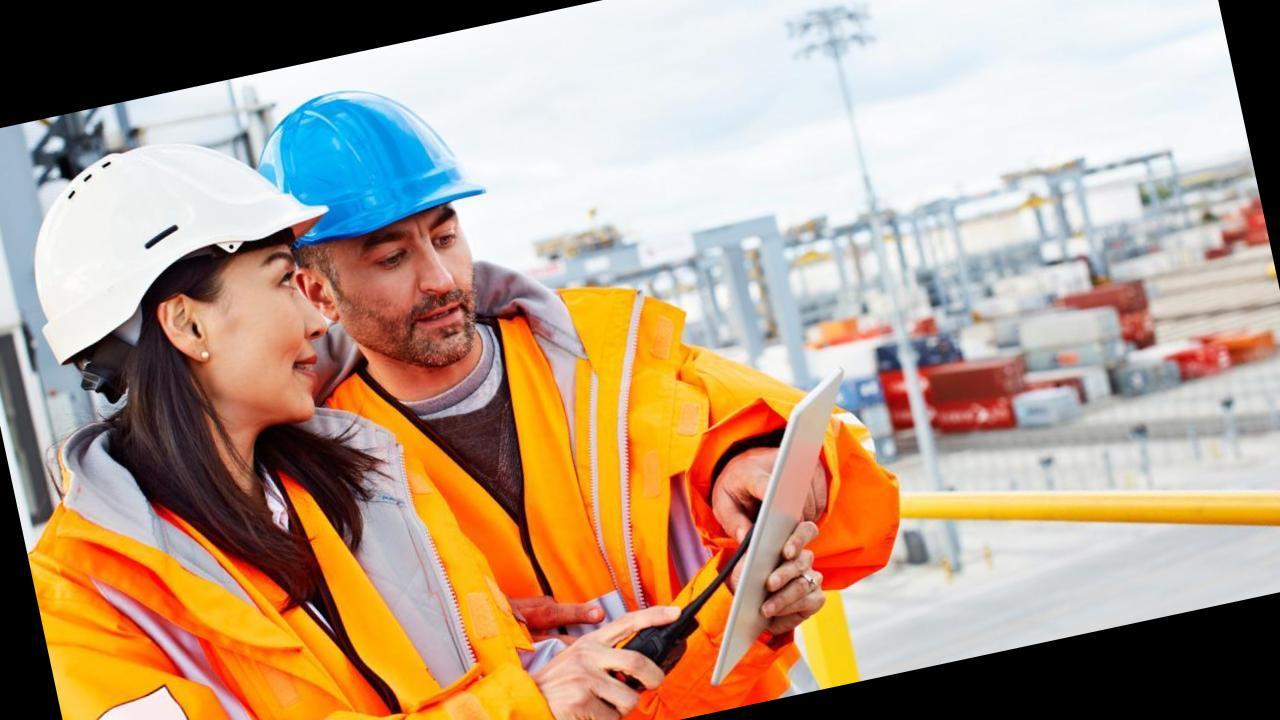Helmet: (0, 124, 333, 356), (228, 44, 496, 282)
Vest: (311, 262, 889, 720), (24, 374, 545, 720)
